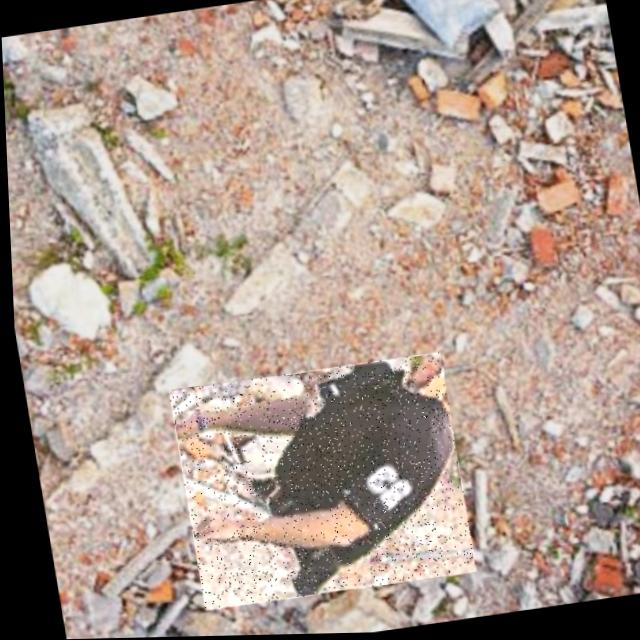Person in Rubble: (163, 353, 471, 612)
